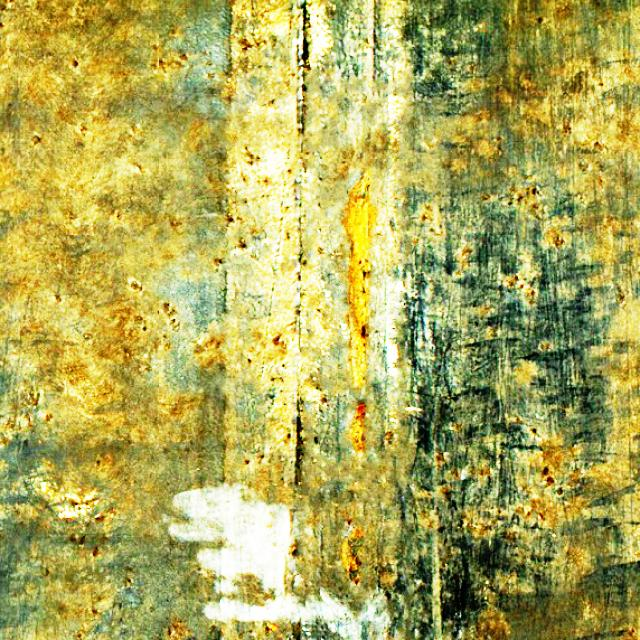Corrosion: (347, 182, 374, 387), (341, 524, 361, 583), (346, 400, 364, 462), (265, 623, 279, 632)
